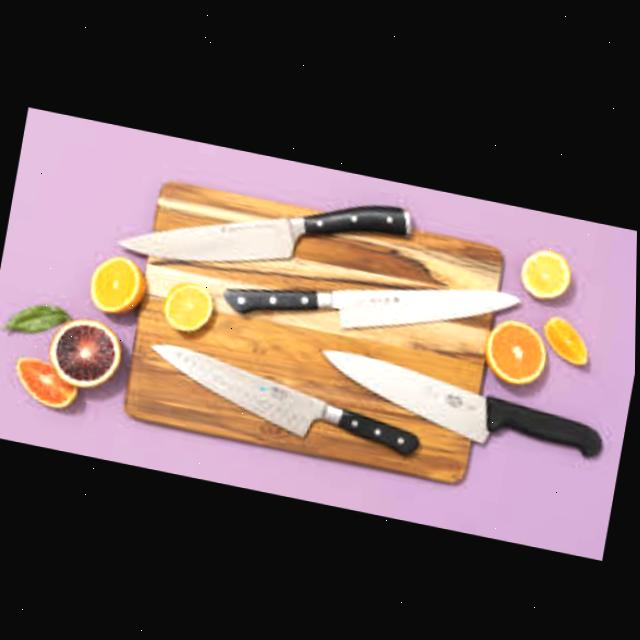knife: (116, 151, 415, 305), (221, 234, 522, 362), (312, 341, 610, 461), (140, 338, 429, 458)
